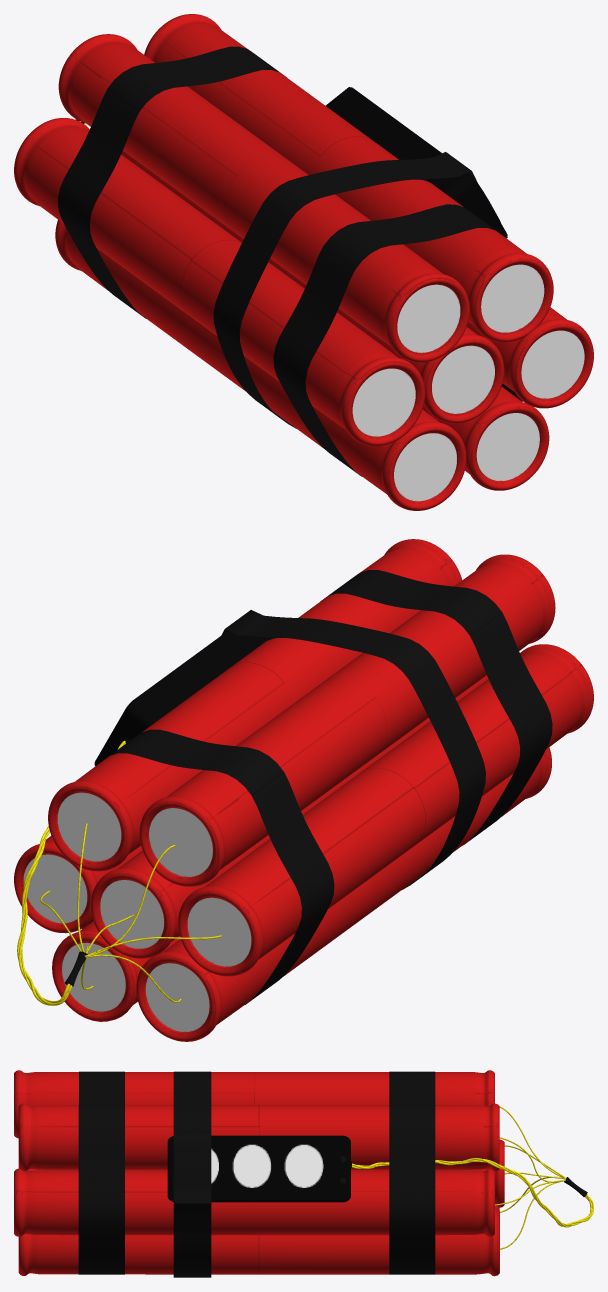
File: time_bomb.fbx
The picture shows the model from 3 angles, top to bottom: view 1: azimuth 30°, elevation 25°; view 2: azimuth 150°, elevation 25°; view 3: azimuth 270°, elevation 25°; orthographic projection. The views are drawn at different scales.
Parts seen in each view (by area): view 1: TICKING_TIME_BOMB_2; view 2: TICKING_TIME_BOMB_2; view 3: TICKING_TIME_BOMB_2.
Part boxes in pixels (bbox=[...]): TICKING_TIME_BOMB_2: bbox=[14, 14, 593, 510]; TICKING_TIME_BOMB_2: bbox=[14, 539, 593, 1041]; TICKING_TIME_BOMB_2: bbox=[14, 1070, 593, 1277].
Size of the model in its own units: 652 by 576 by 1687.
